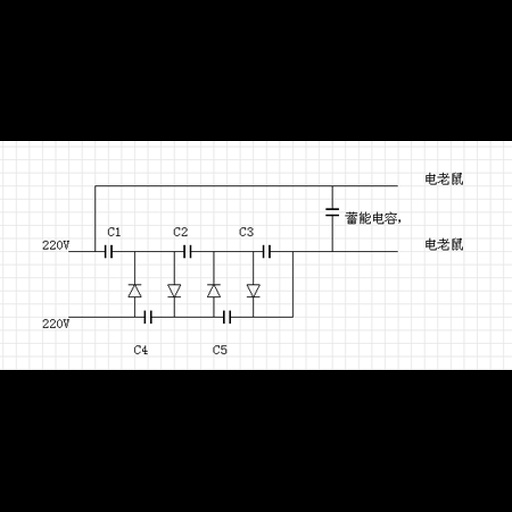capacitor: (319, 201, 341, 221), (260, 243, 278, 261), (220, 309, 237, 327), (101, 242, 118, 259), (181, 243, 197, 257), (142, 309, 155, 325)
seconddiode: (164, 282, 187, 300), (202, 281, 224, 299), (125, 281, 145, 299), (244, 282, 264, 300)
